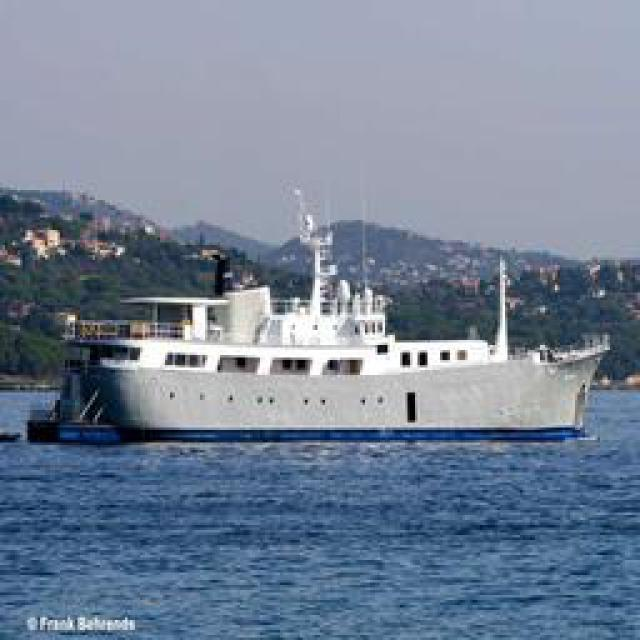Ship: (34, 262, 619, 450)
